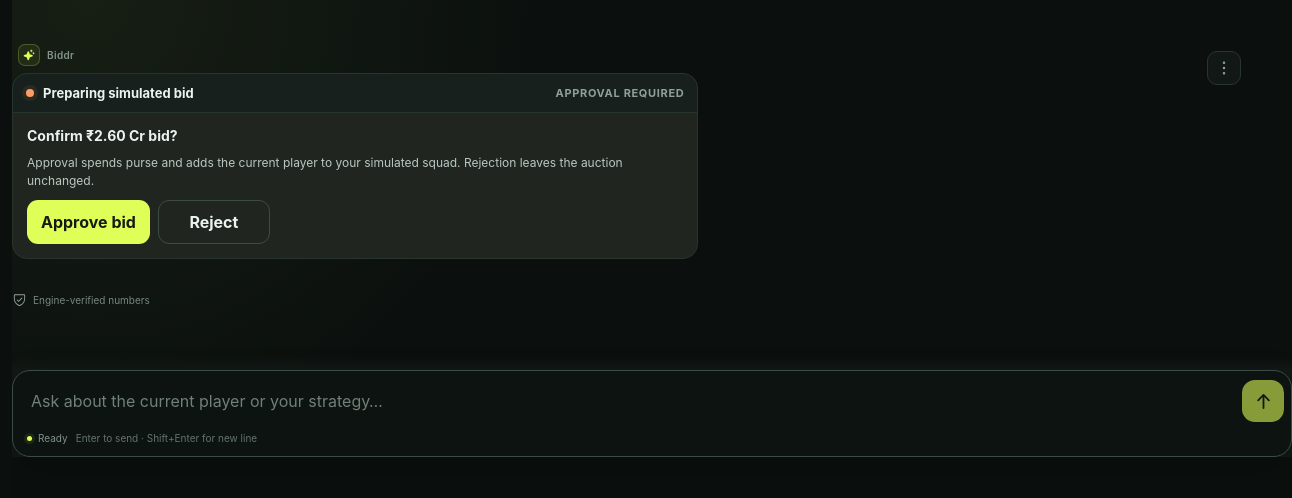
Test: Copilot chat › recovers when an approval decision cannot be sent
The width and height of the screenshot is (1292, 498).
Click the button "Approve bid" at (88, 222), box [27,200,150,244]
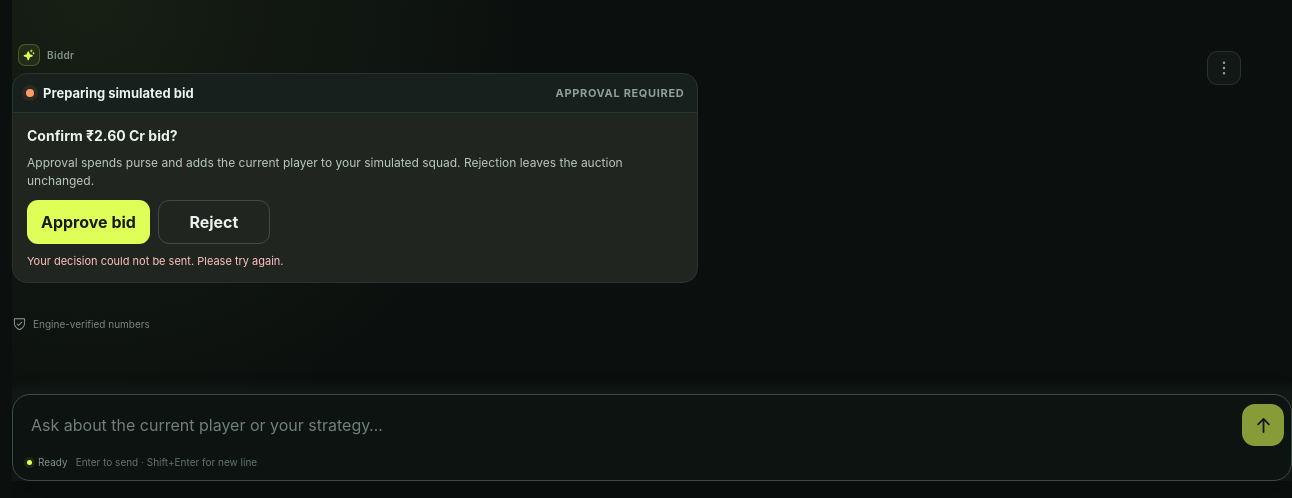
Result: the text "Your decision could not be sent. Please try again." is shown at [27,254,284,268]
